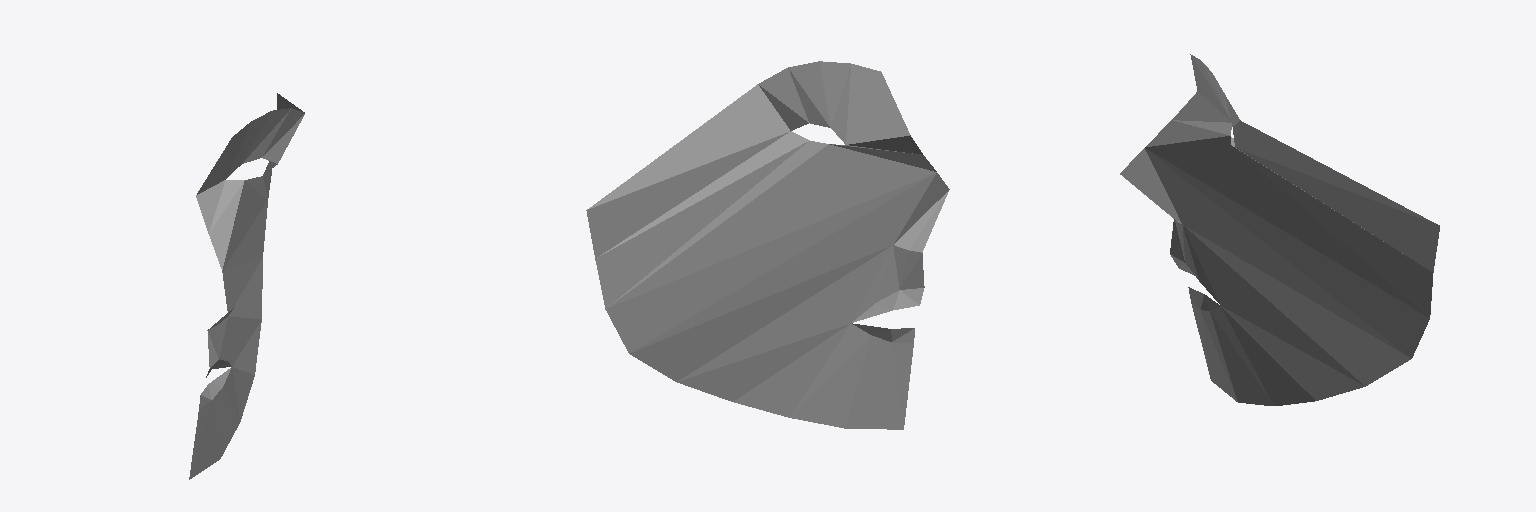
The model's file is feature-points.obj.
3 views of the same model, side by side, from view 1: azimuth 30°, elevation 25°; view 2: azimuth 150°, elevation 25°; view 3: azimuth 270°, elevation 25° (orthographic).
Visible parts, largest first — view 1: untitled_untitled.001; view 2: untitled_untitled.001; view 3: untitled_untitled.001.
Part boxes in pixels (bbox=[...]): untitled_untitled.001: bbox=[189, 93, 304, 479]; untitled_untitled.001: bbox=[586, 61, 949, 429]; untitled_untitled.001: bbox=[1120, 54, 1439, 405].
Bounding box in the file's own units: 2.46 × 4.04 × 3.36.